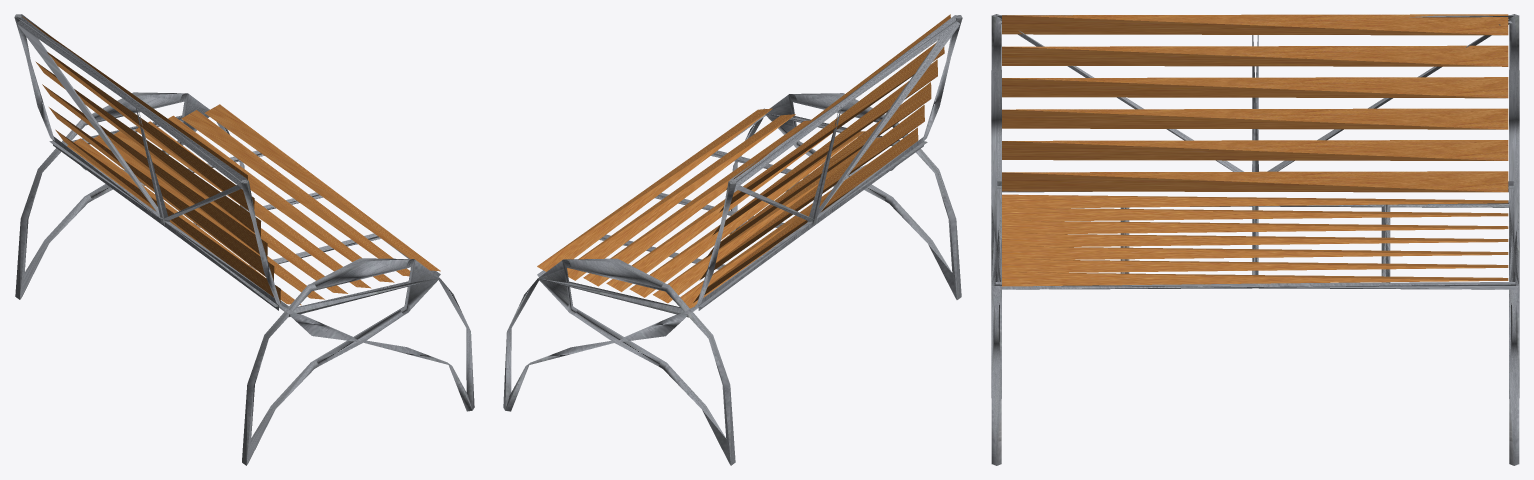
The model's file is bench.glb.
The picture shows the model from 3 angles, left to right: view 1: azimuth 30°, elevation 25°; view 2: azimuth 150°, elevation 25°; view 3: azimuth 270°, elevation 25°; orthographic projection. The views are drawn at different scales.
Parts seen in each view (by area): view 1: Хаптаьын; view 2: Хаптаьын; view 3: Хаптаьын.
Part boxes in pixels (bbox=[...]): Хаптаьын: bbox=[14, 14, 474, 465]; Хаптаьын: bbox=[503, 14, 962, 465]; Хаптаьын: bbox=[991, 14, 1519, 465].
Size of the model in its own units: 0.8401 by 0.9871 by 1.44.
2 materials, 2 textured.
